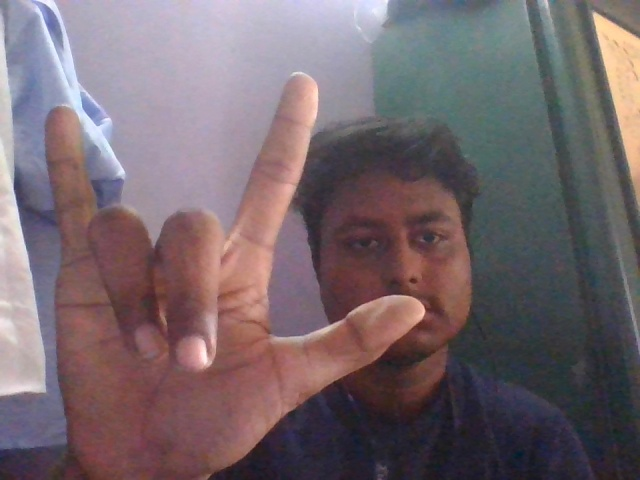iloveyou: (33, 74, 432, 480)
